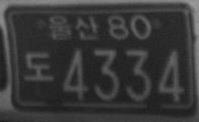0: (130, 13, 152, 40)
3: (124, 49, 152, 101), (93, 48, 119, 101)
4: (158, 49, 184, 103), (62, 49, 89, 100)
8: (106, 14, 129, 40)
도: (22, 52, 54, 81)
울산_O: (49, 14, 99, 40)
